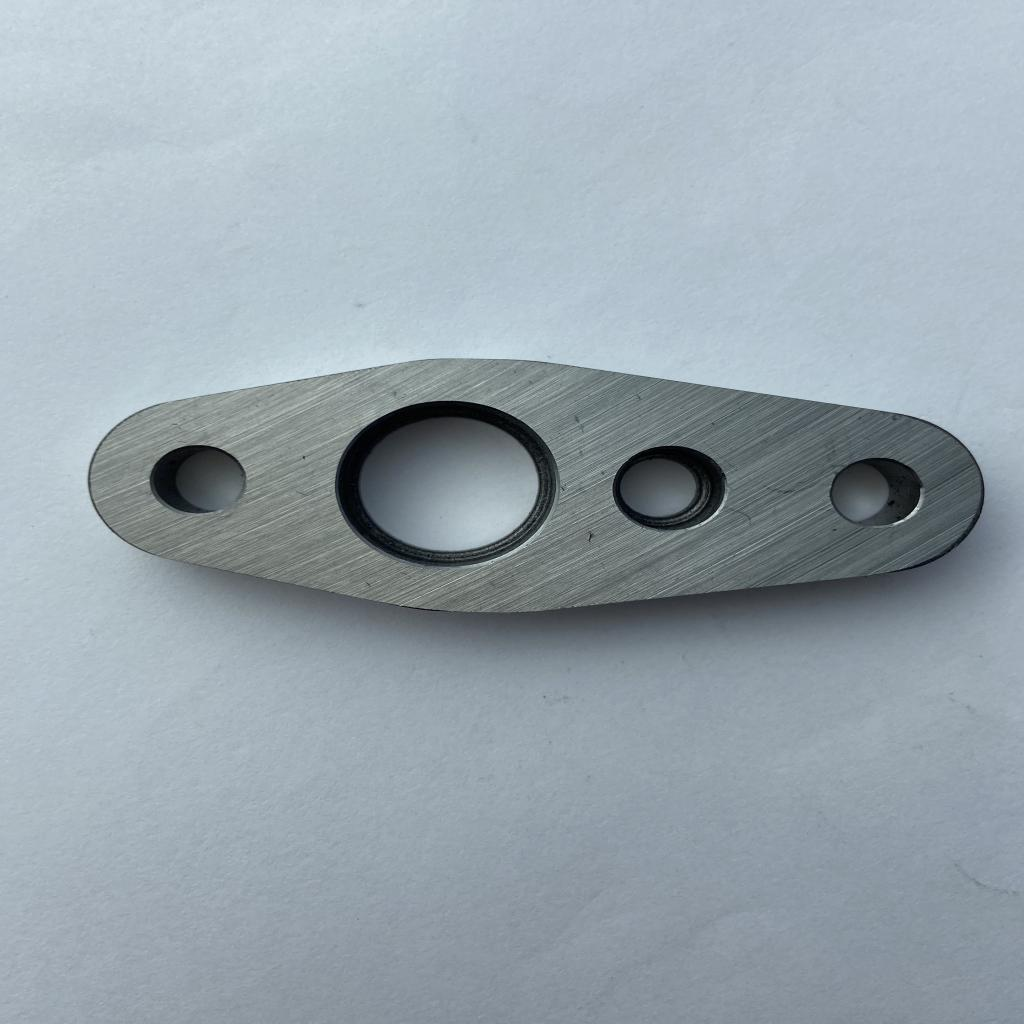lines: (818, 427, 856, 462), (757, 476, 801, 496), (572, 410, 589, 460), (725, 506, 755, 533), (584, 527, 598, 549)
